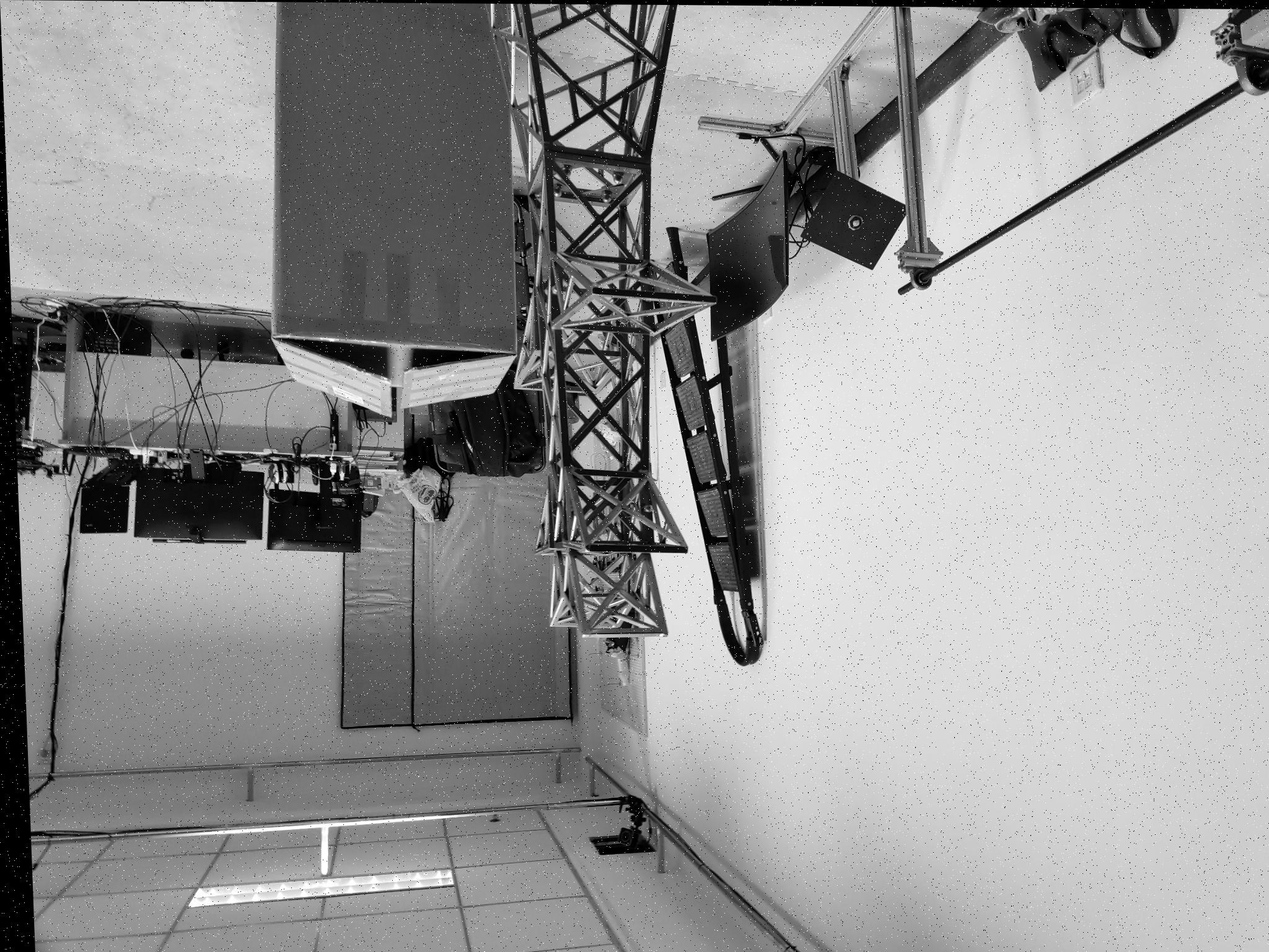tower: (496, 4, 712, 639)
